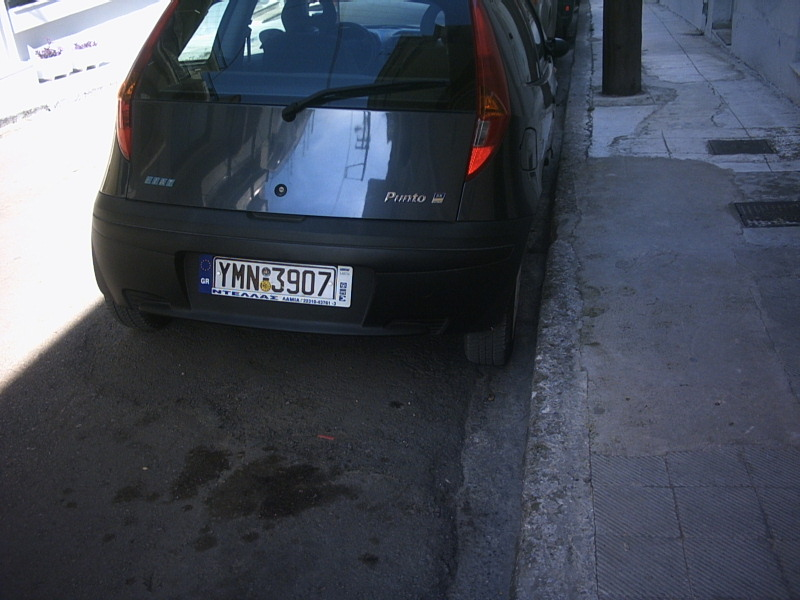licenseplate: (210, 254, 337, 301)
